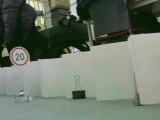speed_20: (9, 46, 29, 67)
